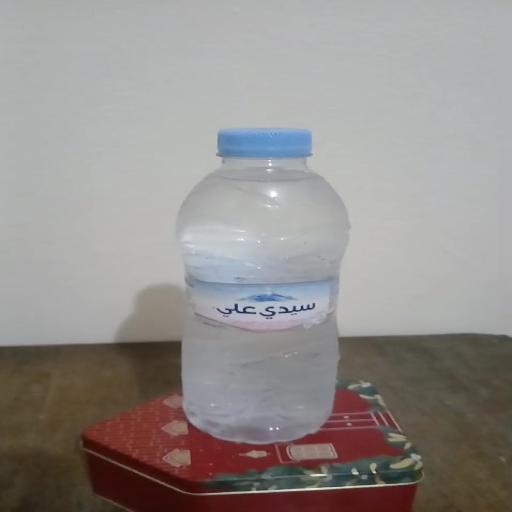bouteille conformite: (164, 122, 370, 450)
